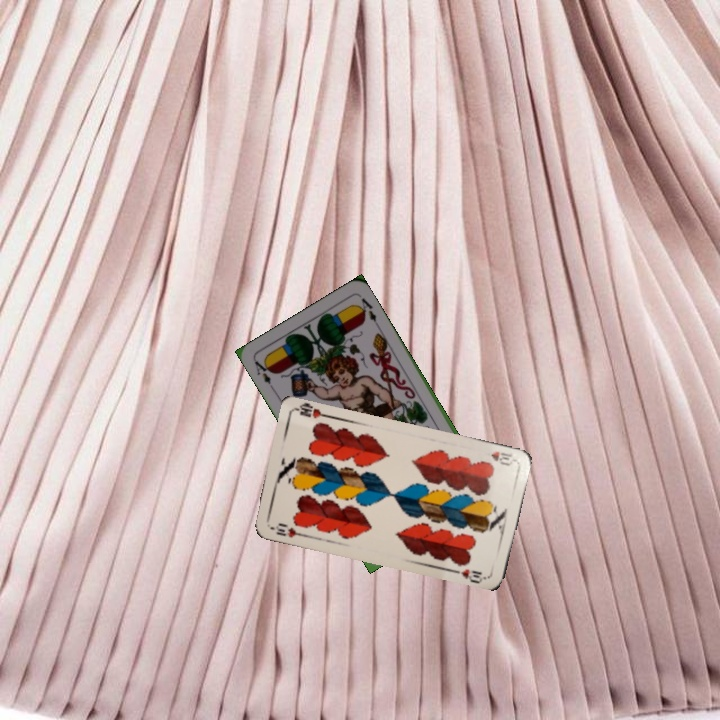EA: (250, 356, 277, 393)
H10: (267, 519, 307, 540), (487, 447, 517, 468)
